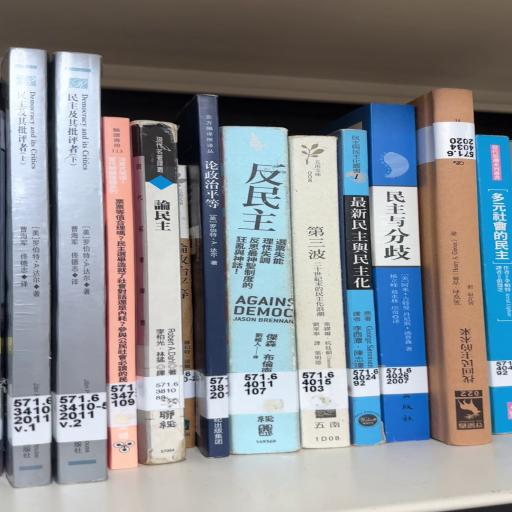book: (338, 105, 430, 442), (222, 127, 301, 455), (51, 53, 108, 485), (3, 49, 52, 488), (290, 136, 351, 450), (178, 95, 230, 459), (132, 121, 185, 466), (334, 130, 384, 446), (103, 118, 139, 470), (477, 136, 512, 435)
reverse: (409, 90, 492, 447)
